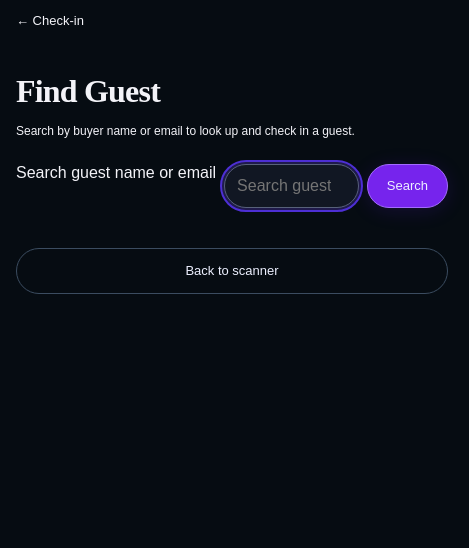
Test case: starts focused without reporting an empty search, then displays successful no matches
The width and height of the screenshot is (469, 548).
Expected: the text "No guest found" is not shown
Type "nobody" into the search field at (291, 186), box [224, 164, 359, 208]
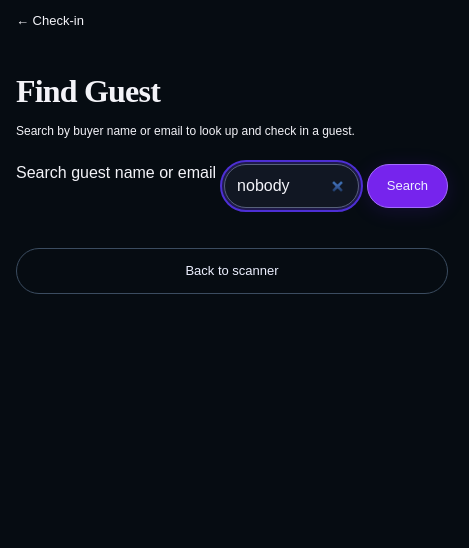
Click the button "Search" at (407, 186), box [367, 164, 448, 208]
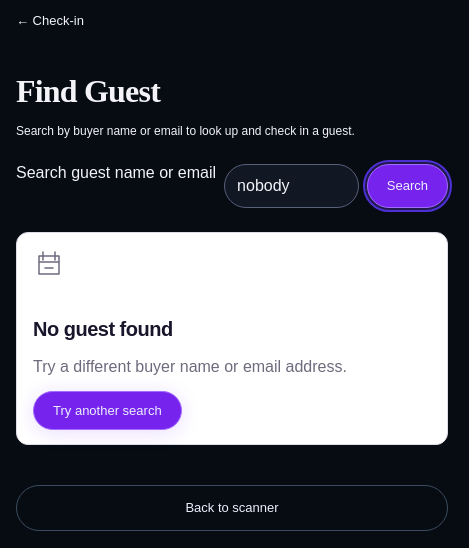
Expected: the heading "No guest found" is shown, [33, 315, 173, 343]
